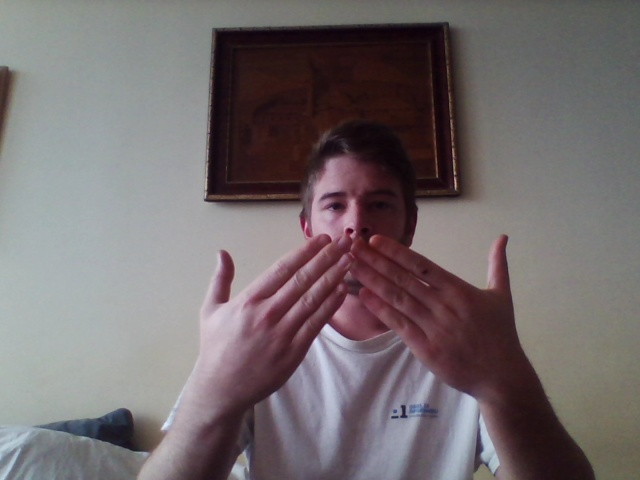hvala: (198, 231, 518, 404)
